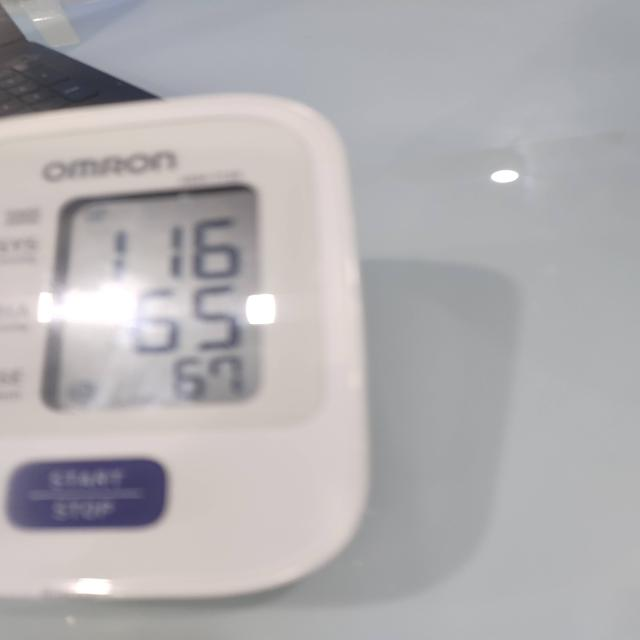bp: (0, 94, 375, 617)
